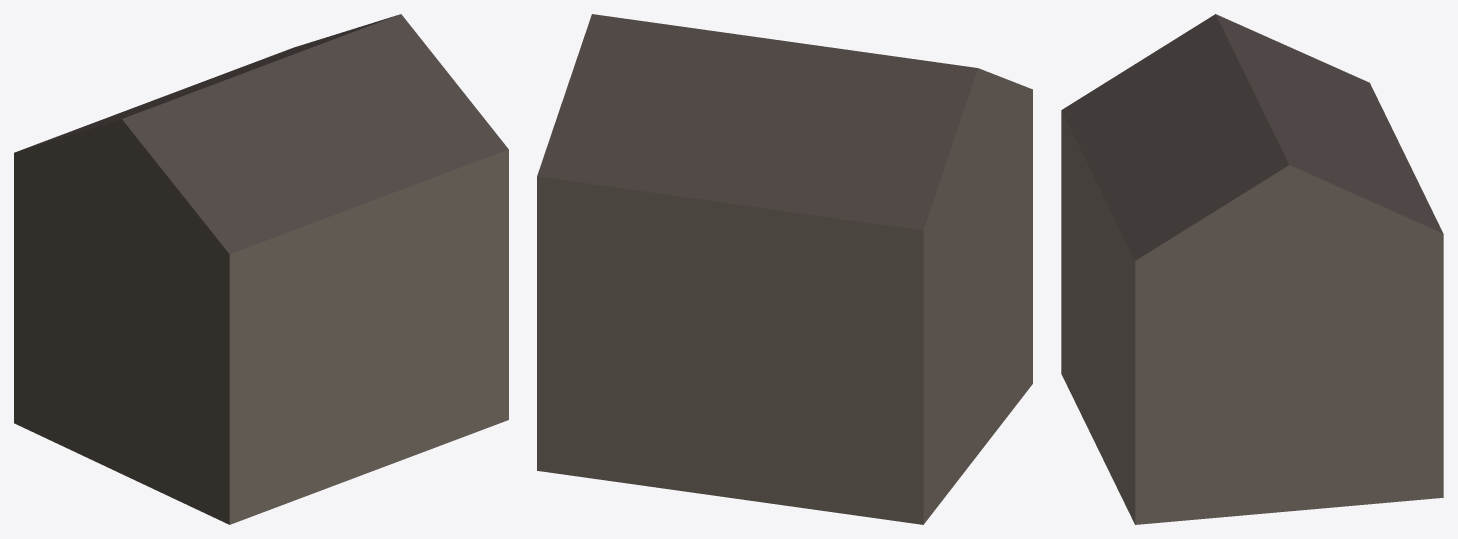
3 views of the same model, side by side, from view 1: azimuth 30°, elevation 25°; view 2: azimuth 150°, elevation 25°; view 3: azimuth 270°, elevation 25° (orthographic). The views are drawn at different scales.
Visible parts, largest first — view 1: HP-w1424106434; view 2: HP-w1424106434; view 3: HP-w1424106434.
Boxes of the visible parts, <box> form: HP-w1424106434: <box>14,14,508,524</box>; HP-w1424106434: <box>537,14,1032,524</box>; HP-w1424106434: <box>1061,14,1443,524</box>.
Size of the model in its own units: 8.69 by 7.87 by 7.87.
